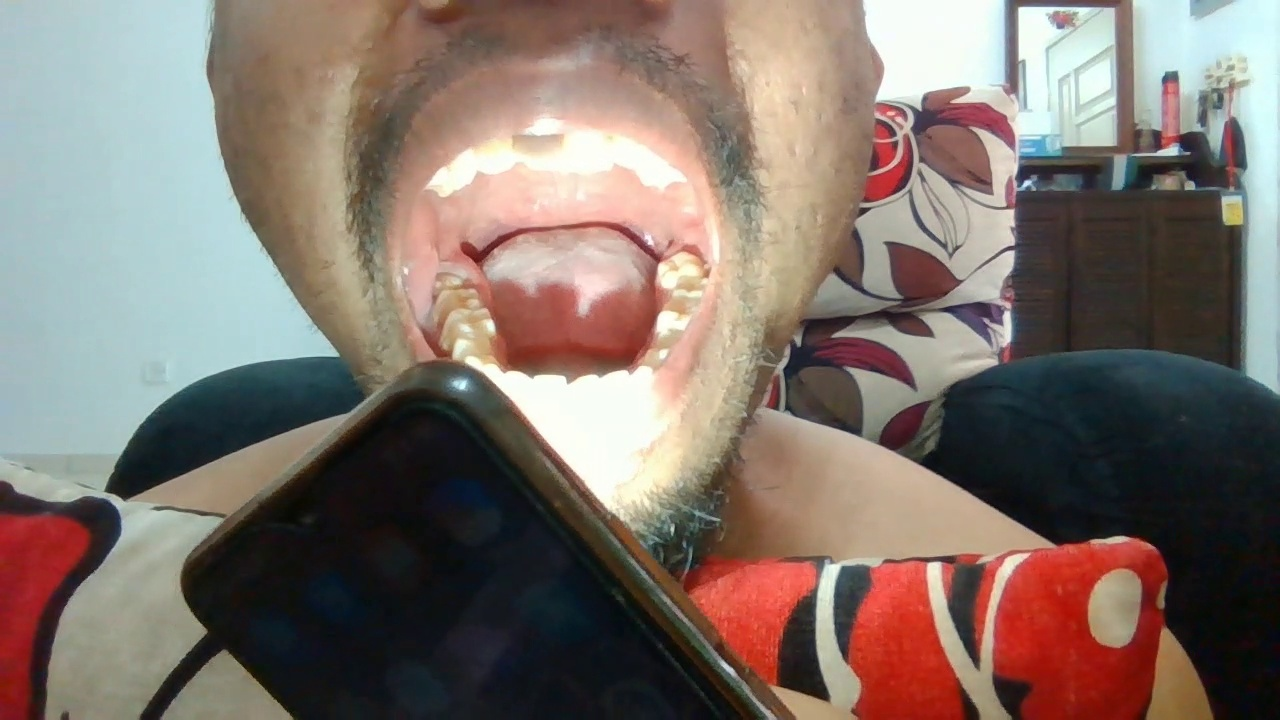1st Molar: (438, 307, 495, 333), (656, 299, 701, 330)
2nd Molar: (434, 286, 481, 311), (669, 276, 711, 299)
2nd Premolar: (450, 331, 492, 359), (649, 330, 684, 347)
3rd Molar: (655, 250, 703, 286), (431, 269, 464, 292)
Canine: (451, 147, 475, 192), (630, 360, 655, 401)
Central Incisor: (564, 124, 614, 177), (513, 129, 565, 171), (533, 373, 568, 407), (568, 374, 599, 410)
Lateral Incisor: (474, 137, 515, 174), (600, 369, 630, 407), (503, 370, 532, 407)
